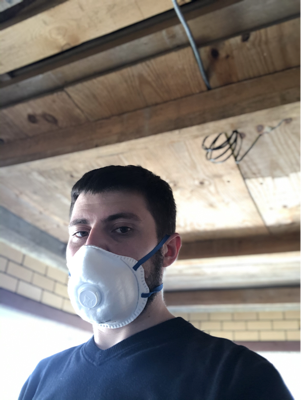with_mask: (66, 205, 156, 330)
